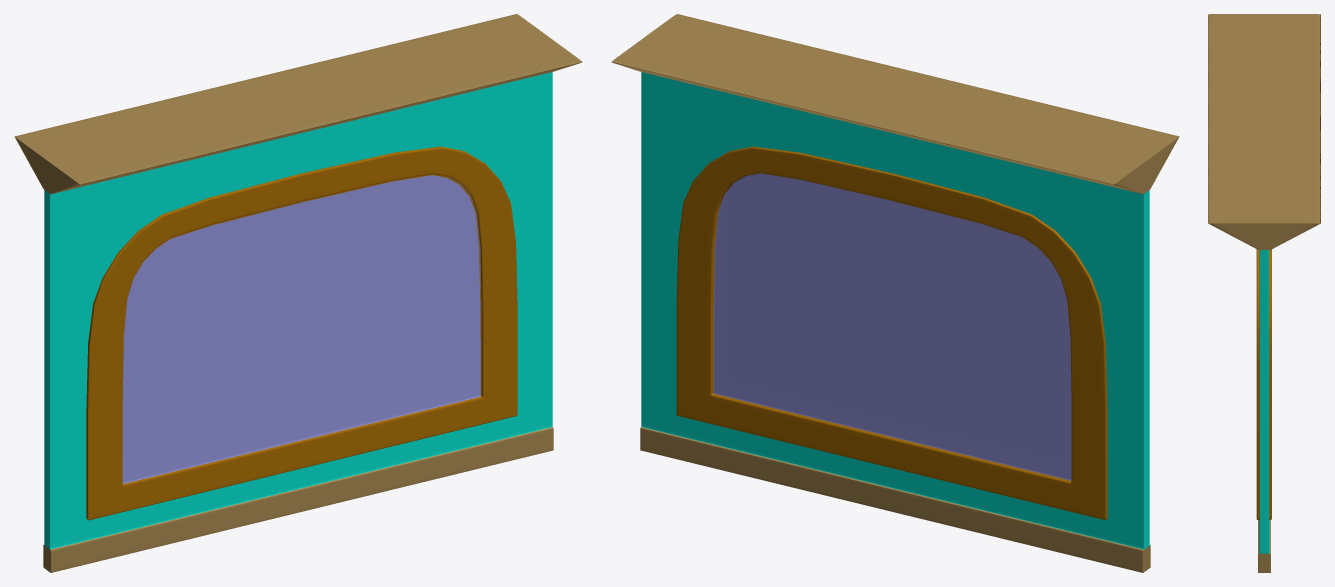
File: BigWindow.fbx
The picture shows the model from 3 angles, left to right: view 1: azimuth 30°, elevation 25°; view 2: azimuth 150°, elevation 25°; view 3: azimuth 270°, elevation 25°; orthographic projection. The views are drawn at different scales.
Visible parts, largest first — view 1: pPipe1; view 2: pPipe1; view 3: pPipe1.
Boxes of the visible parts, x1,y1,x2,y2 form: pPipe1: (14,14,582,572); pPipe1: (611,14,1179,572); pPipe1: (1208,14,1320,572).
Size of the model in its own units: 369 by 287 by 84.03.
